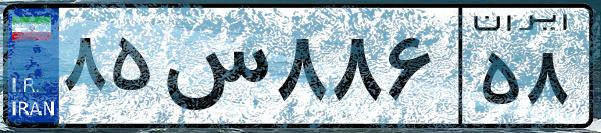5: (475, 38, 525, 113), (110, 28, 158, 98)
6: (385, 28, 445, 110)
8: (270, 28, 330, 110), (330, 28, 385, 110), (57, 26, 110, 100), (525, 38, 570, 115)
س: (158, 20, 270, 120)
